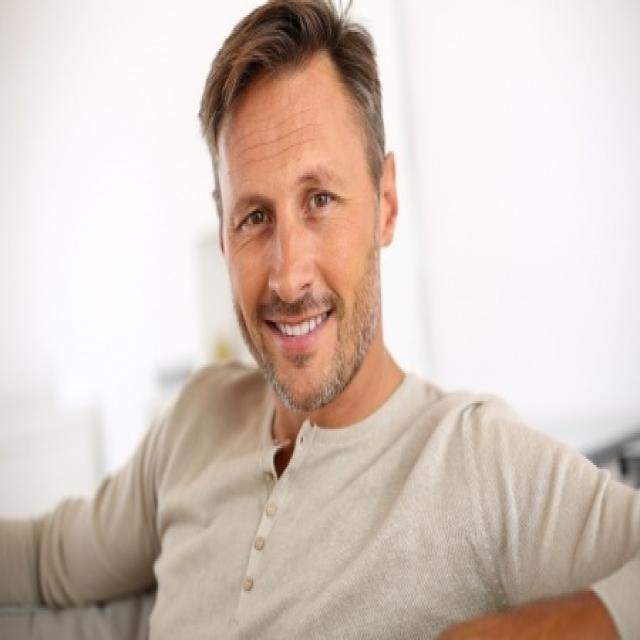human: (42, 1, 639, 640)
